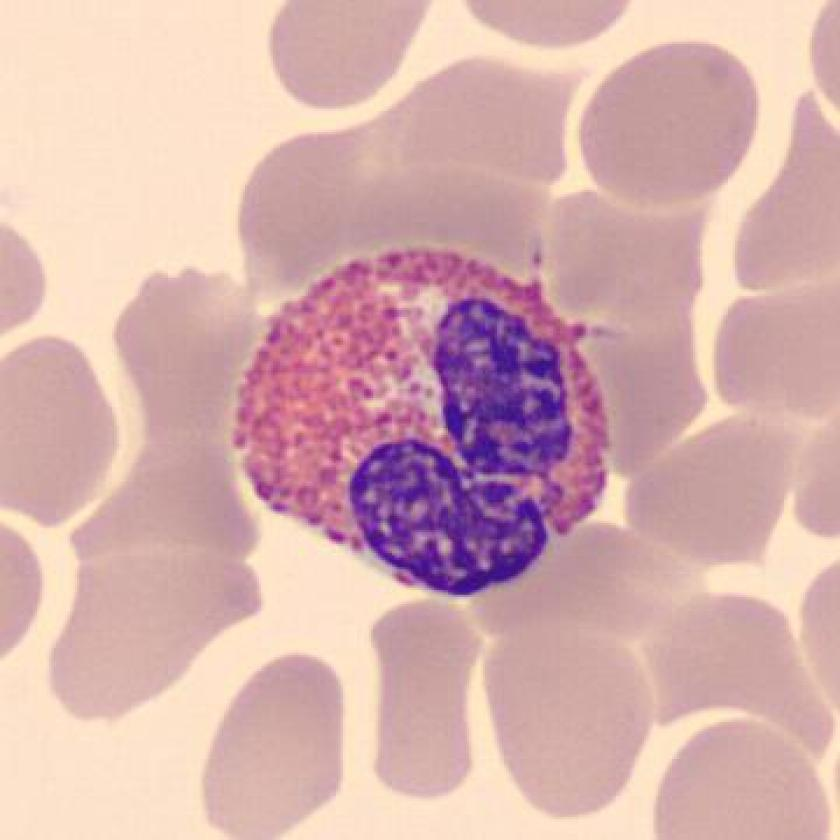eosinophil: (225, 239, 626, 603)
